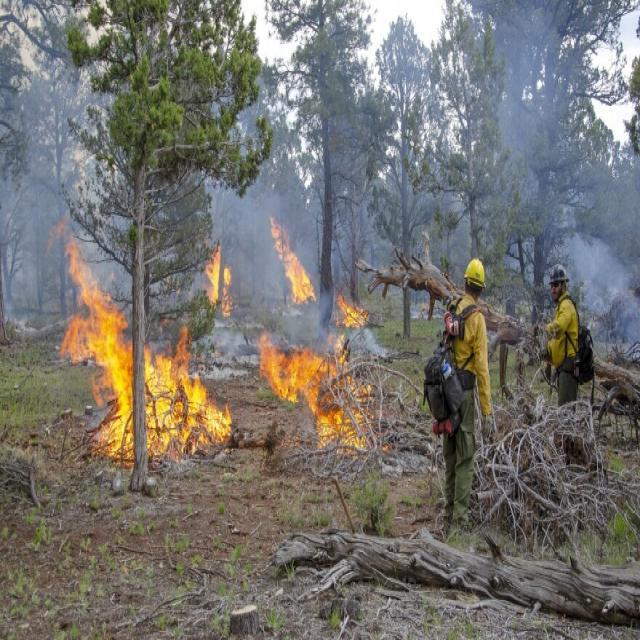Fire: (54, 236, 240, 454), (265, 220, 397, 461)
